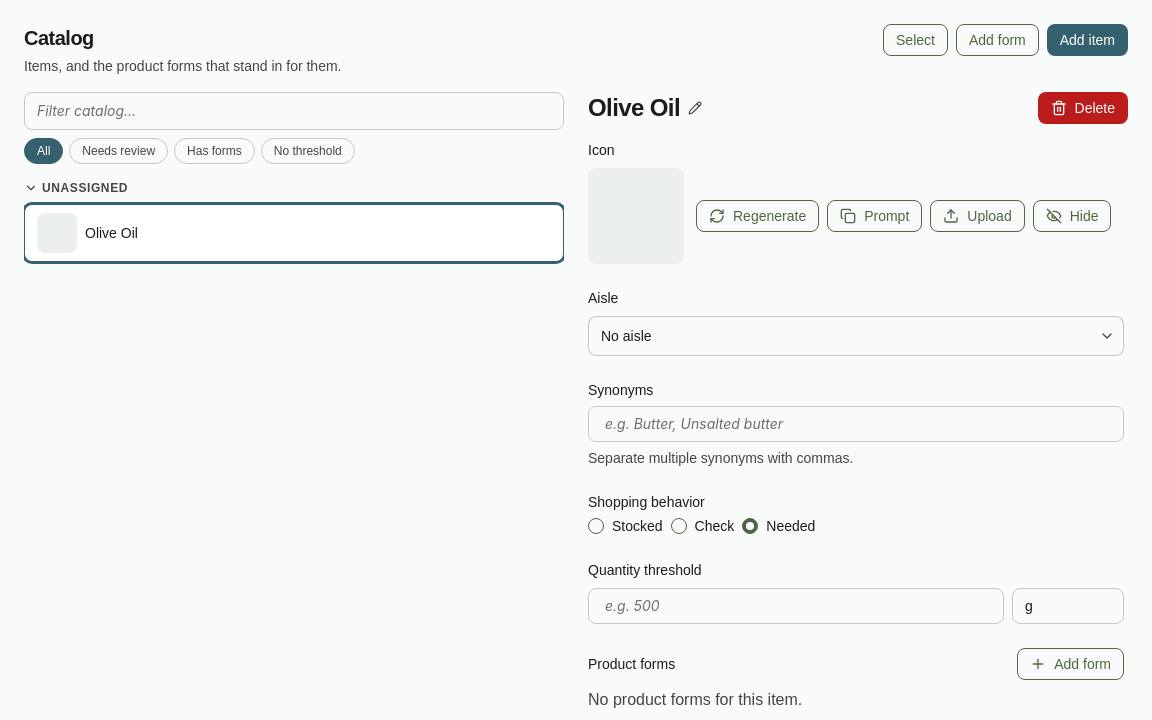
Test: the catalog record editor › renders item details › pre-fills the name field with the item name
This screenshot has width=1152, height=720.
Click the button named "edit name" at (695, 108), box x1=688 y1=101 x2=702 y2=115
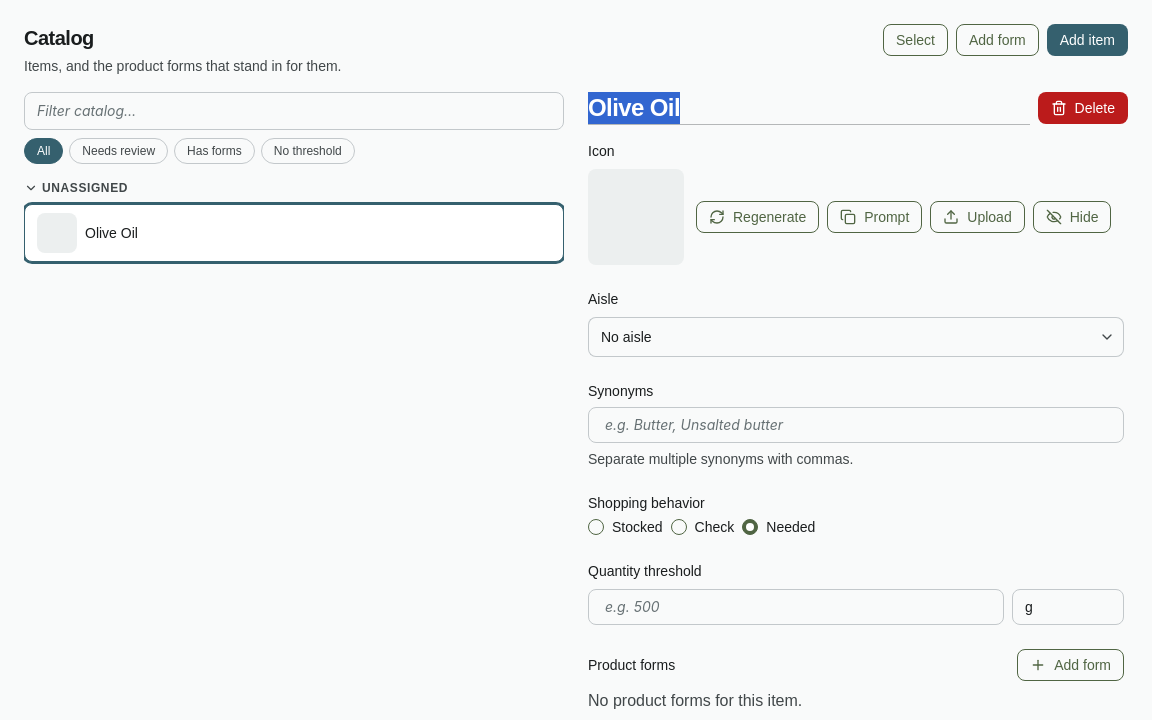
Result: the field with test id "canon-detail-name-input" holds "Olive Oil" at x1=588 y1=92 x2=1030 y2=125
